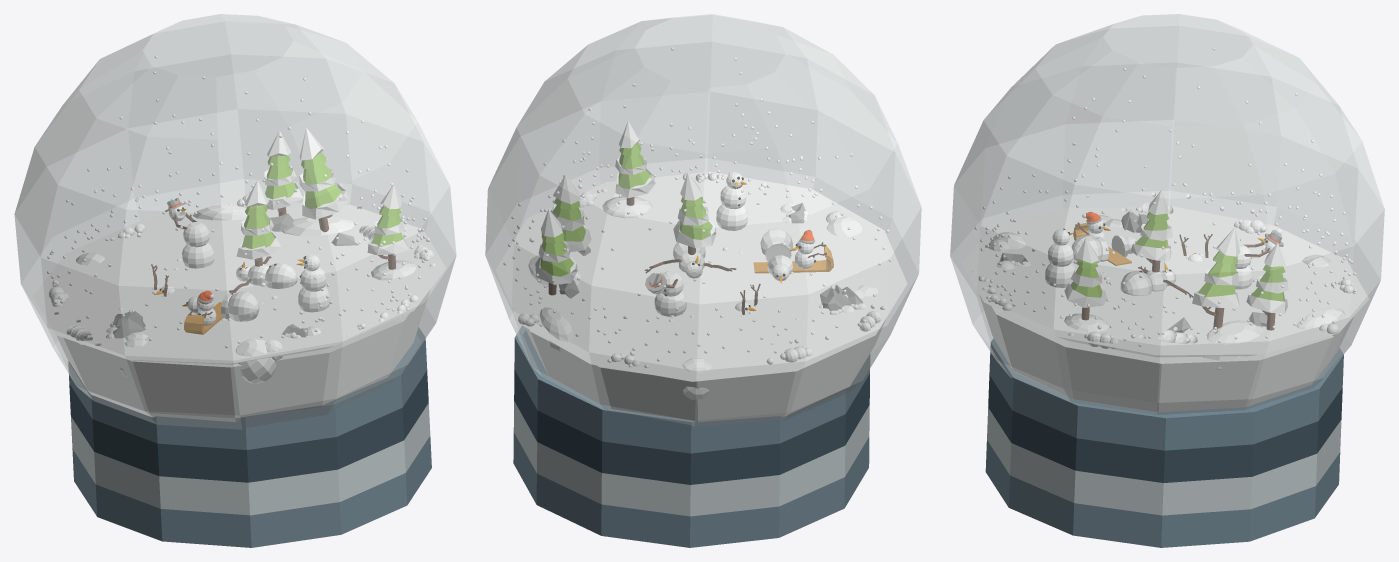
The model's file is Snowglobe.glb.
The picture shows the model from 3 angles, left to right: view 1: azimuth 30°, elevation 25°; view 2: azimuth 150°, elevation 25°; view 3: azimuth 270°, elevation 25°; orthographic projection.
Parts seen in each view (by area): view 1: Node; view 2: Node; view 3: Node.
Boxes of the visible parts, x1,y1,x2,y2 form: Node: [14, 14, 456, 547]; Node: [485, 14, 921, 547]; Node: [950, 14, 1384, 547].
Bounding box in the file's own units: 2.78 × 3.13 × 2.78.
